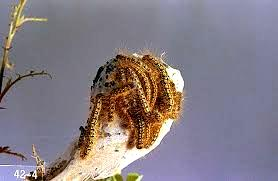Caterpillar: (74, 94, 106, 159), (147, 51, 177, 110), (125, 67, 154, 120), (108, 79, 138, 111), (113, 49, 145, 67), (136, 114, 146, 147), (129, 119, 141, 145), (107, 93, 117, 122)
